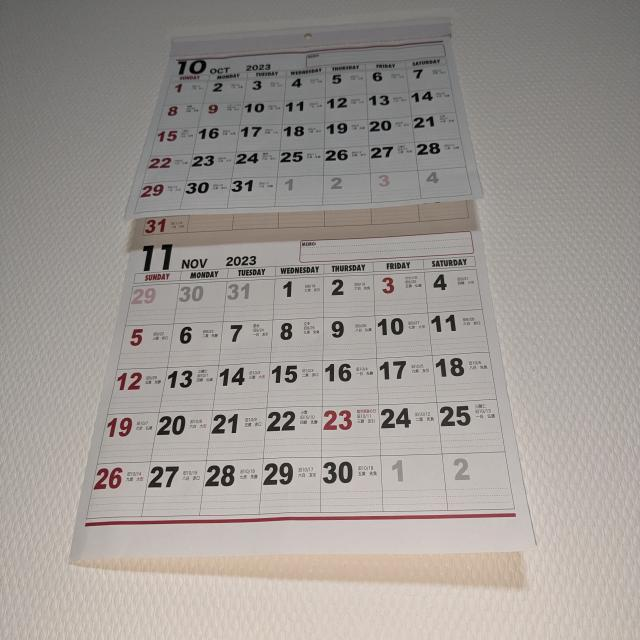calendar: (60, 19, 546, 582)
